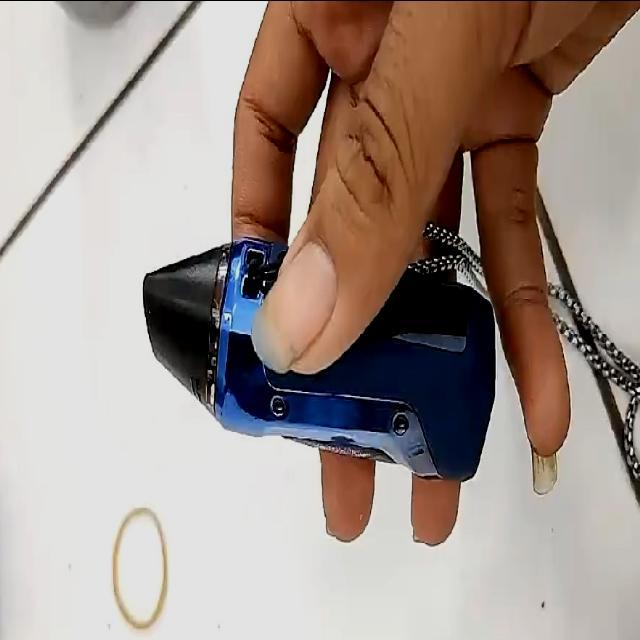Hazard: (138, 233, 494, 478)
